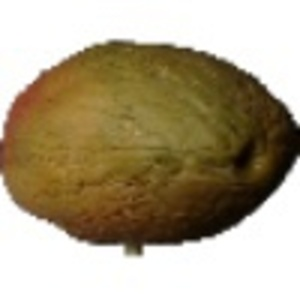mamão: (3, 31, 296, 244)
